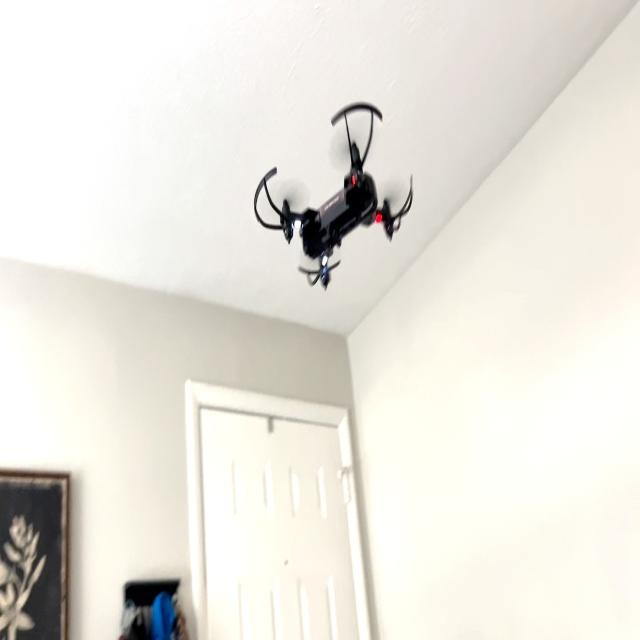drone: (244, 83, 426, 299)
